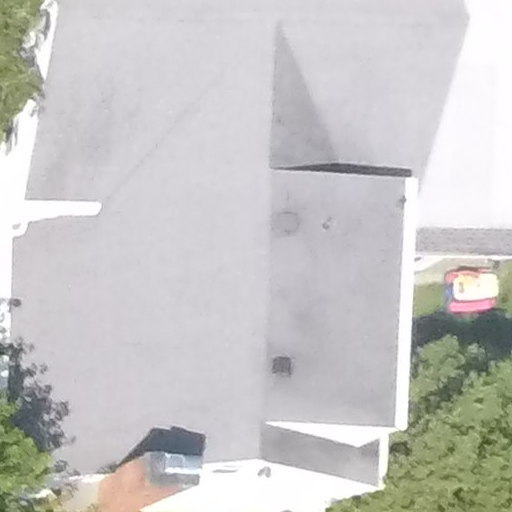house: (1, 1, 512, 501)
